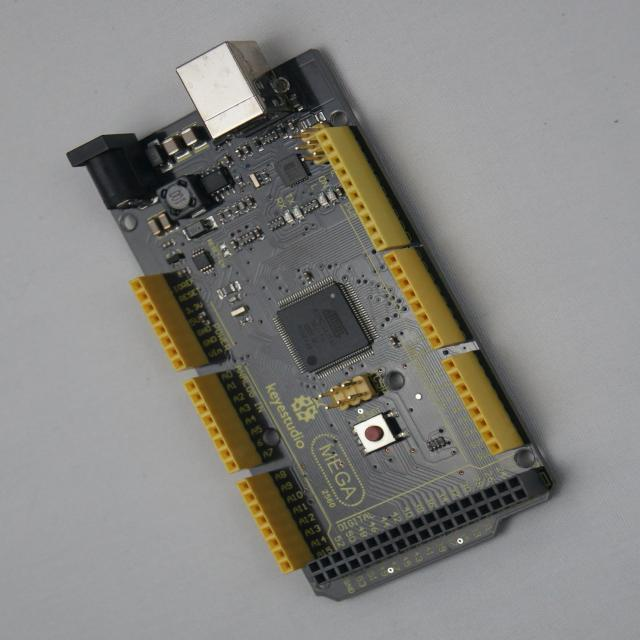Arduino Mega 2560 -Yellow-: (68, 43, 553, 597)
